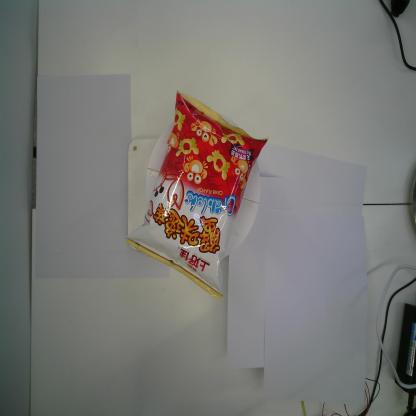Puffed Food: (125, 89, 269, 301)
